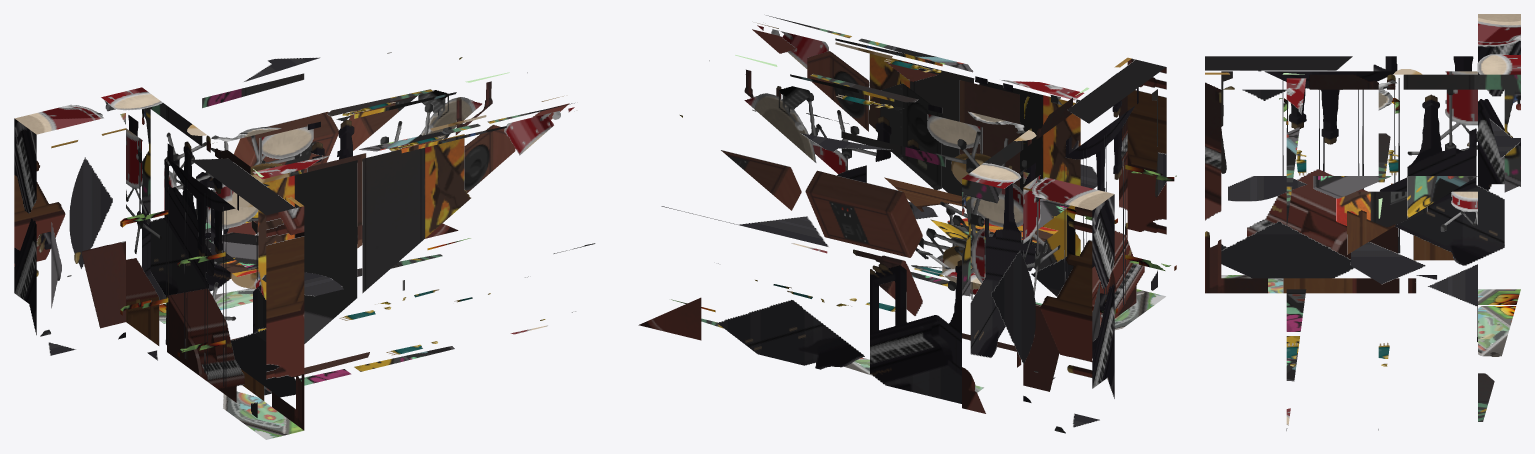
The picture shows the model from 3 angles, left to right: view 1: azimuth 30°, elevation 25°; view 2: azimuth 150°, elevation 25°; view 3: azimuth 270°, elevation 25°; orthographic projection. The views are drawn at different scales.
Bounding box in the file's own units: 1.74 × 0.84 × 1.1.
